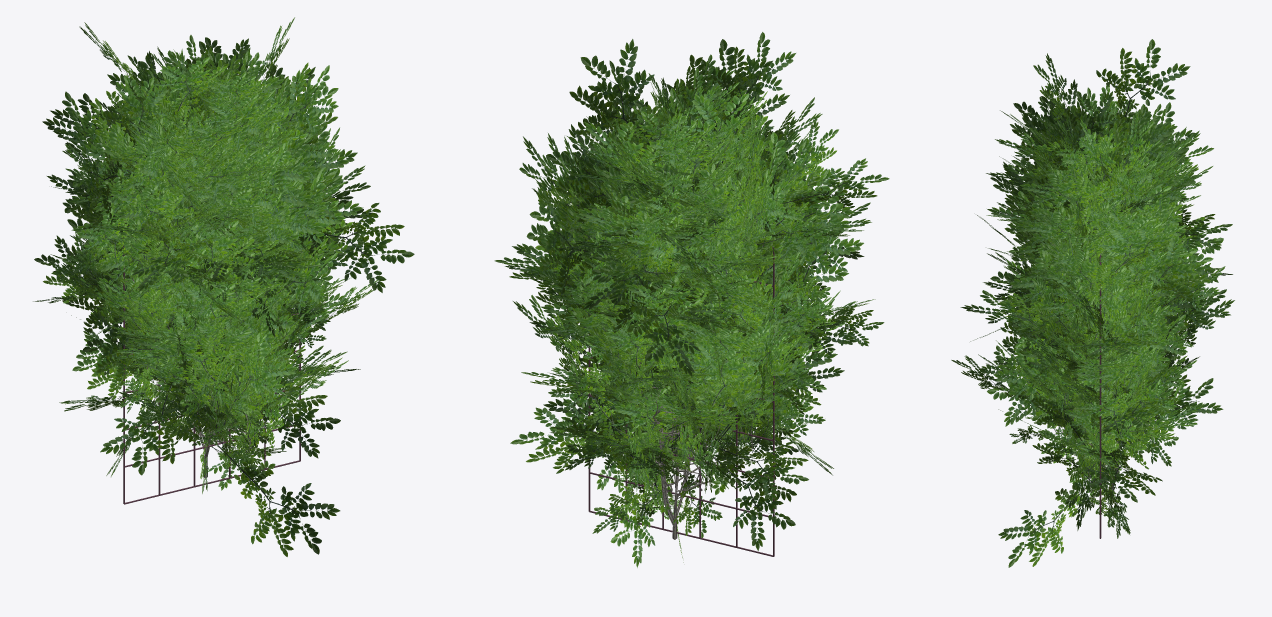
File: trellis.glb
3 renders of one model, left to right at view 1: azimuth 30°, elevation 25°; view 2: azimuth 150°, elevation 25°; view 3: azimuth 270°, elevation 25°, orthographic. The views are drawn at different scales.
Visible parts, largest first — view 1: Tree, Trellis; view 2: Tree, Trellis; view 3: Tree, Trellis.
Part boxes in pixels (x1,y1,x2,y2): Tree: (33,17,414,556); Trellis: (123,220,300,504); Tree: (494,32,889,567); Trellis: (588,243,774,556); Tree: (951,39,1234,567); Trellis: (1099,254,1101,538).
Size of the model in its own units: 41.95 by 63.48 by 35.04.
Materials: 3 (2 with a texture image).
